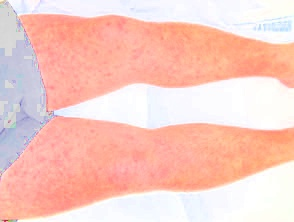SJS-TEN: (0, 90, 171, 222), (15, 12, 146, 105)
